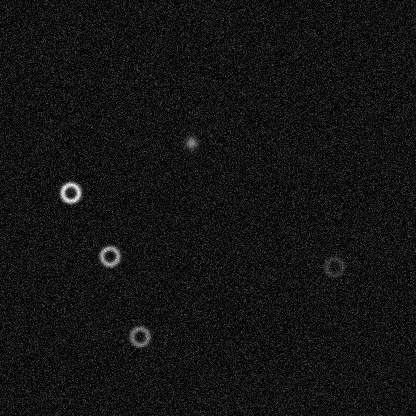Ring: (322, 254, 346, 278), (58, 180, 82, 204), (127, 324, 151, 348), (97, 244, 121, 268)
Spot: (183, 134, 199, 150)
